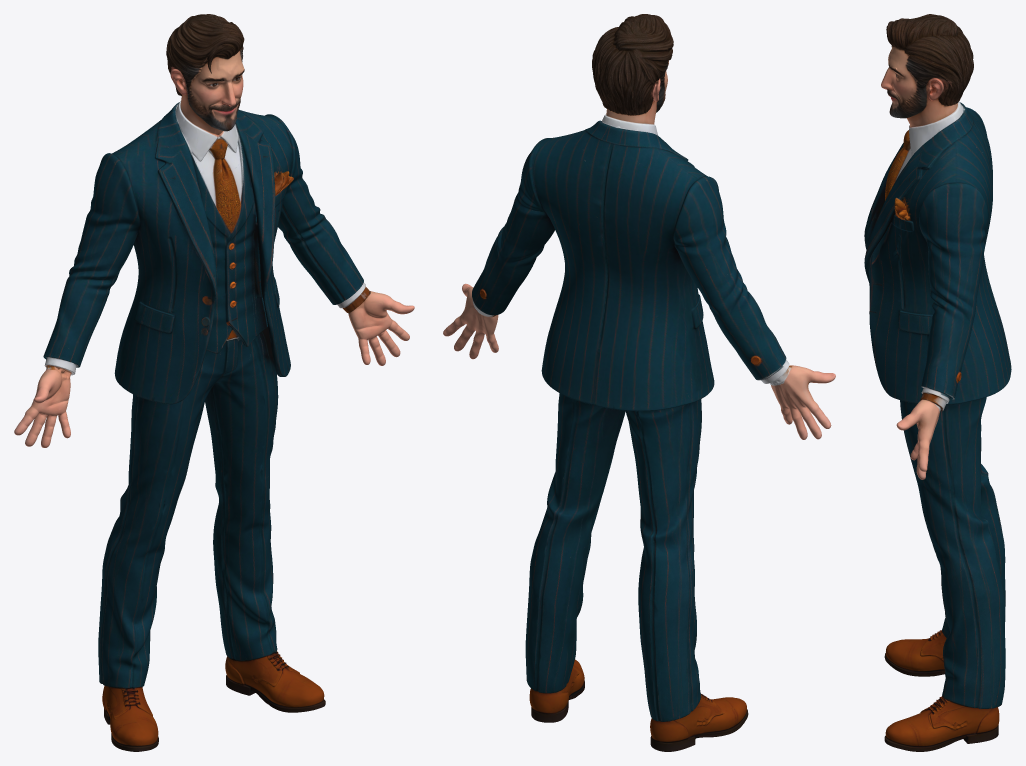
Rendered from businessman.glb.
The picture shows the model from 3 angles, left to right: view 1: azimuth 30°, elevation 25°; view 2: azimuth 150°, elevation 25°; view 3: azimuth 270°, elevation 25°; orthographic projection. The views are drawn at different scales.
Parts seen in each view (by area): view 1: businessman; view 2: businessman; view 3: businessman.
Boxes of the visible parts, box(x1,y1,x2,y2) form: businessman: box(14, 14, 414, 751); businessman: box(443, 14, 835, 751); businessman: box(864, 14, 1011, 751).
Bounding box in the file's own units: 1.06 × 1.8 × 0.3491.
1 material, 1 textured.
